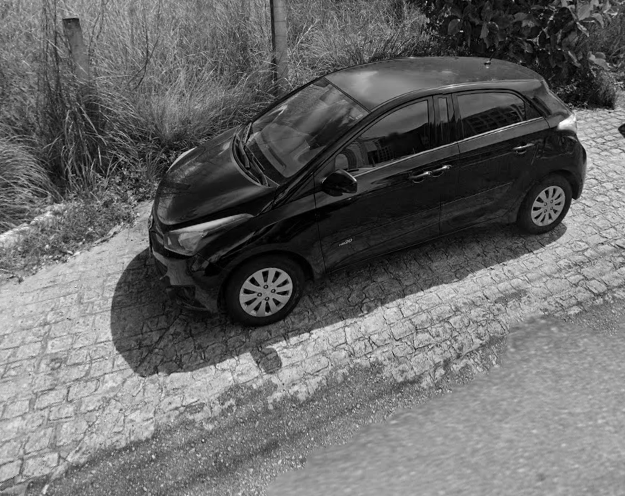car: (143, 49, 590, 330)
